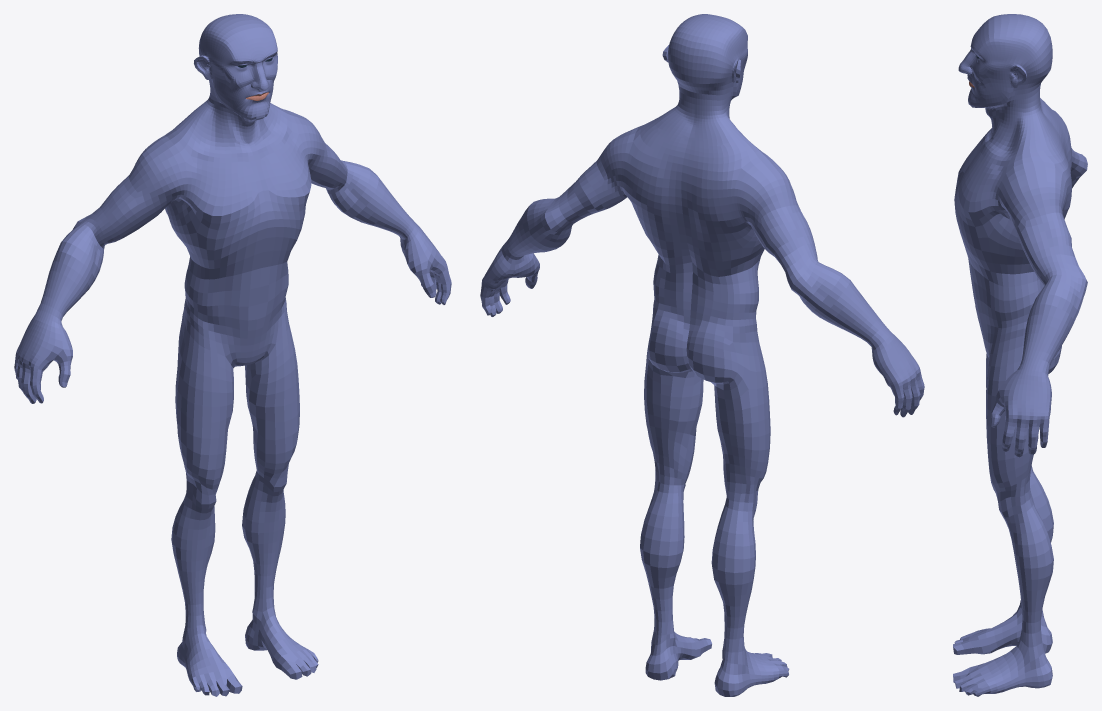
The model's file is human_body.fbx.
3 renders of one model, left to right at view 1: azimuth 30°, elevation 25°; view 2: azimuth 150°, elevation 25°; view 3: azimuth 270°, elevation 25°, orthographic.
Visible parts, largest first — view 1: sknGeo; view 2: sknGeo; view 3: sknGeo.
Part boxes in pixels (x1,y1,x2,y2): sknGeo: (14,14,451,696); sknGeo: (480,14,924,696); sknGeo: (953,14,1087,696).
Size of the model in its own units: 127 by 185 by 34.81.
